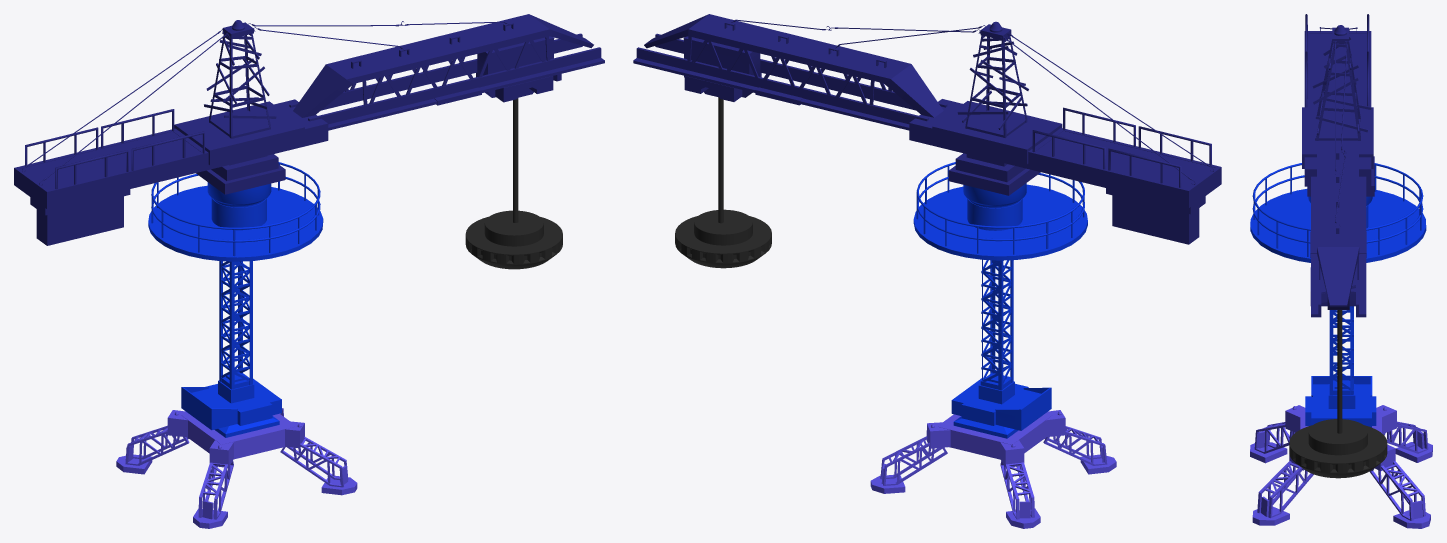
Rendered from crane_V8.FBX.
3 renders of one model, left to right at view 1: azimuth 30°, elevation 25°; view 2: azimuth 150°, elevation 25°; view 3: azimuth 270°, elevation 25°, orthographic.
Parts seen in each view (by area): view 1: crane, Box004; view 2: crane, Box004; view 3: crane, Box004.
Boxes of the visible parts, <box> form: crane: <box>14,14,604,437</box>; Box004: <box>116,408,357,528</box>; crane: <box>633,14,1221,438</box>; Box004: <box>870,410,1116,528</box>; crane: <box>1250,14,1426,478</box>; Box004: <box>1250,405,1432,528</box>.
Size of the model in its own units: 574 by 447 by 161.
